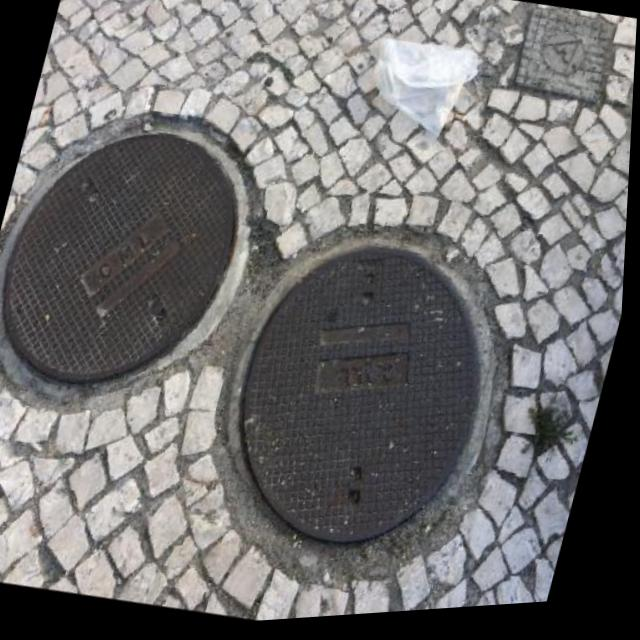plastic: (356, 30, 485, 152)
